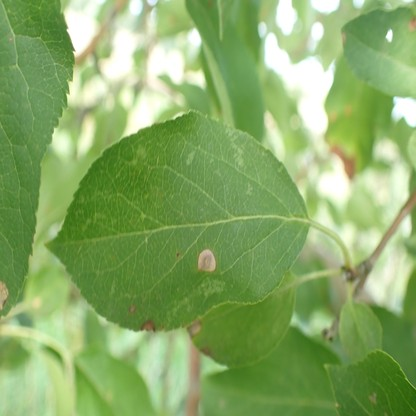frogeye_leaf_spot: (198, 248, 216, 270), (187, 317, 202, 337), (0, 280, 9, 312), (139, 320, 156, 332), (200, 346, 211, 356), (409, 19, 416, 29), (129, 304, 135, 313)
